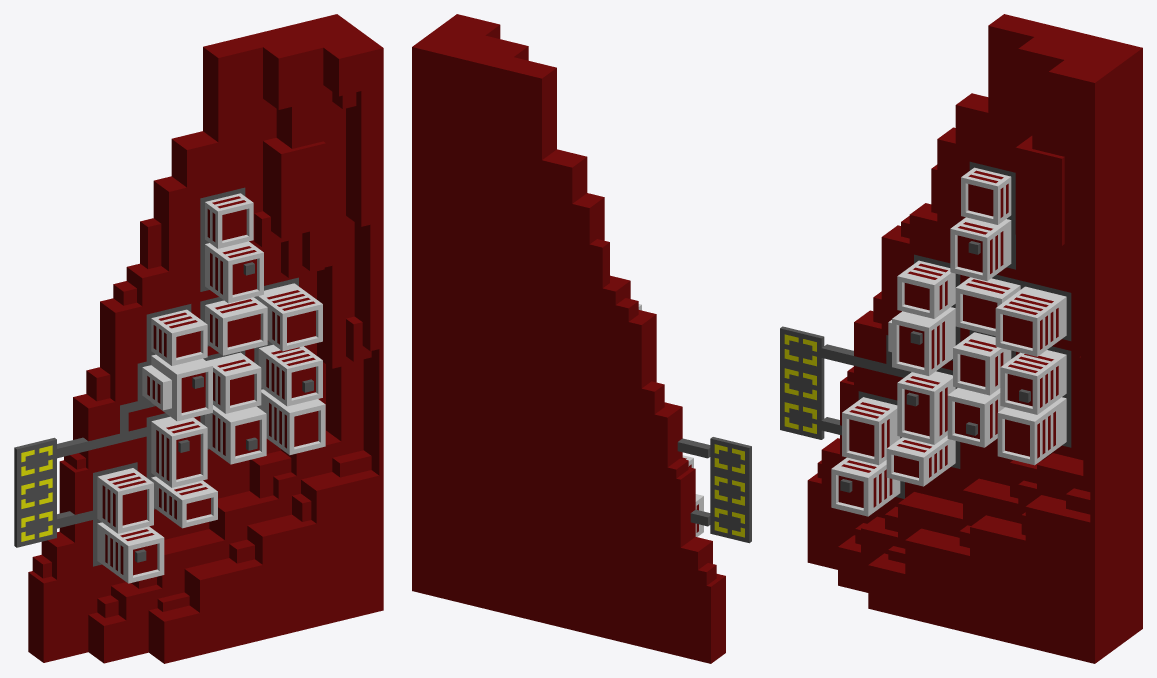
The model's file is wonky w city.obj.
3 views of the same model, side by side, from view 1: azimuth 30°, elevation 25°; view 2: azimuth 150°, elevation 25°; view 3: azimuth 330°, elevation 25° (orthographic). The views are drawn at different scales.
Size of the model in its own units: 75 by 120 by 18.
1 material, 1 textured.
